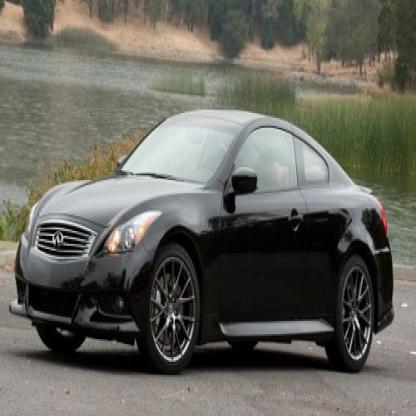Vehicle: (8, 108, 398, 380)
